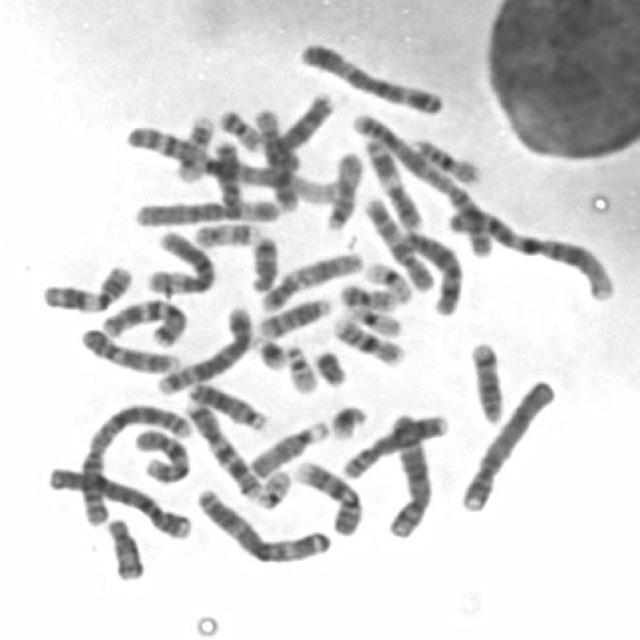A1: (118, 119, 342, 206), (442, 202, 622, 304)
A2: (350, 108, 500, 260), (72, 395, 195, 531)
A3: (292, 35, 448, 116), (191, 482, 334, 565)
B4: (454, 372, 560, 514), (43, 459, 196, 541)
B5: (152, 300, 255, 396), (381, 405, 437, 540)
C10: (356, 188, 436, 294), (130, 423, 192, 484)
C11: (358, 129, 426, 231), (36, 258, 136, 314)
C12: (255, 244, 366, 314), (250, 104, 300, 212)
C6: (128, 192, 286, 228), (143, 224, 219, 296)
C7: (180, 396, 266, 500), (96, 292, 190, 349)
C8: (340, 406, 454, 481), (269, 93, 338, 171)
C9: (290, 453, 365, 537), (74, 321, 183, 375)
D13: (182, 375, 271, 432), (208, 133, 246, 208)
D14: (252, 290, 336, 339), (463, 335, 508, 425)
D15: (242, 413, 330, 479), (319, 146, 365, 232)
E16: (327, 310, 409, 368), (405, 130, 485, 186)
E17: (170, 109, 219, 185), (188, 216, 264, 248)
E18: (100, 511, 148, 582), (244, 230, 280, 294)
F19: (341, 298, 405, 338), (360, 255, 414, 302)
F20: (212, 103, 266, 153), (336, 277, 398, 310)
G21: (325, 398, 370, 440), (248, 329, 290, 371)
G22: (280, 339, 320, 394), (251, 463, 294, 511)
X: (399, 224, 466, 318)
Y: (309, 344, 350, 388)
